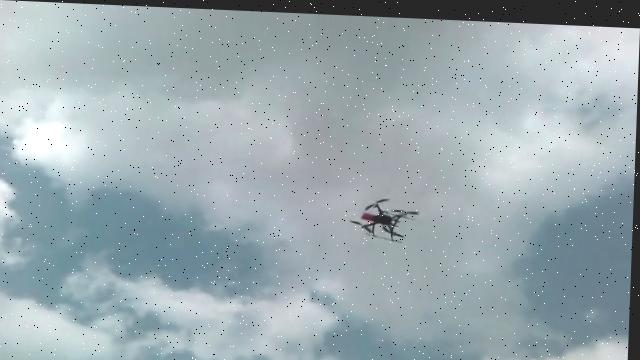drone: (347, 191, 421, 240)
